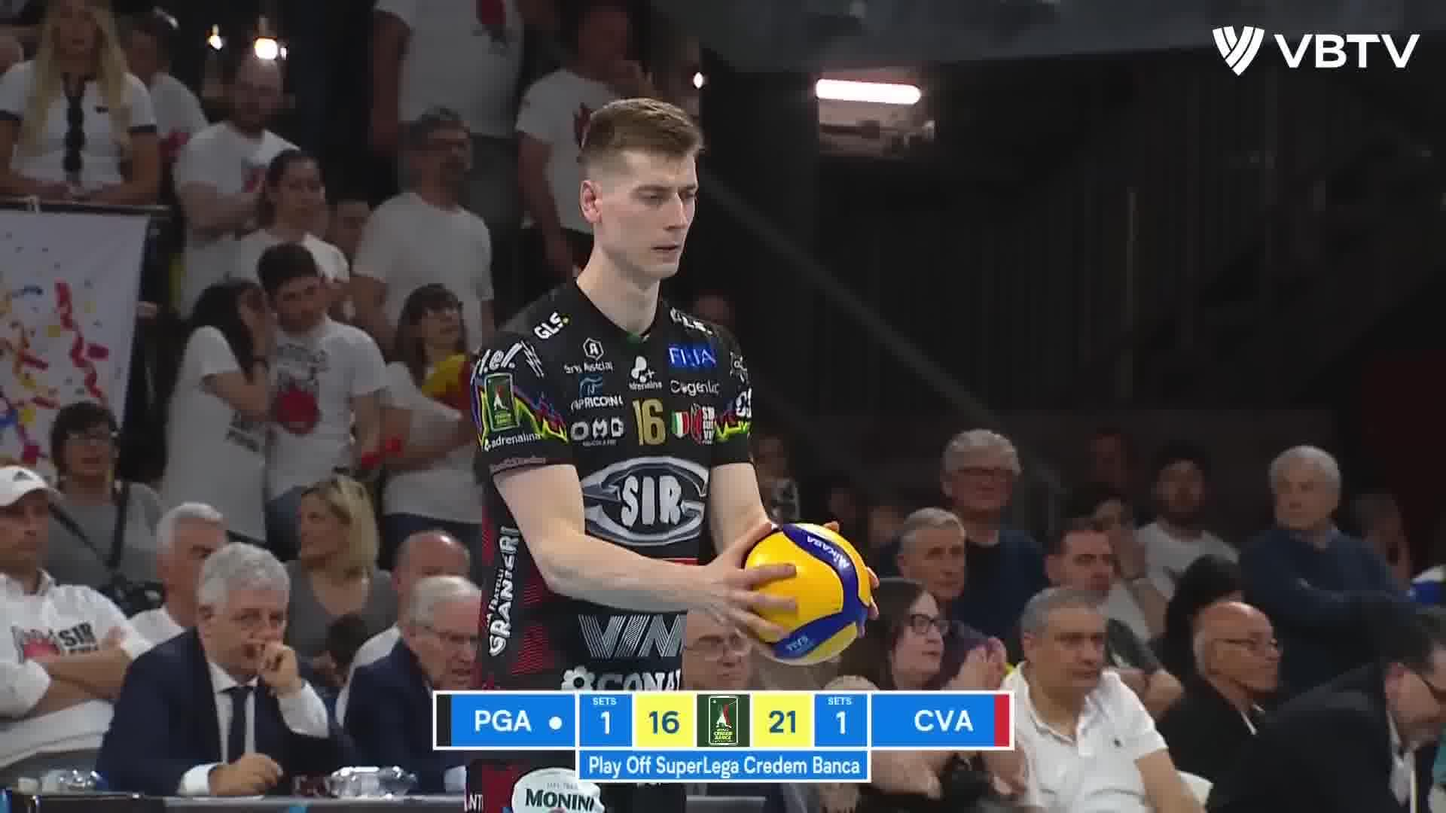balls: (730, 506, 880, 674)
